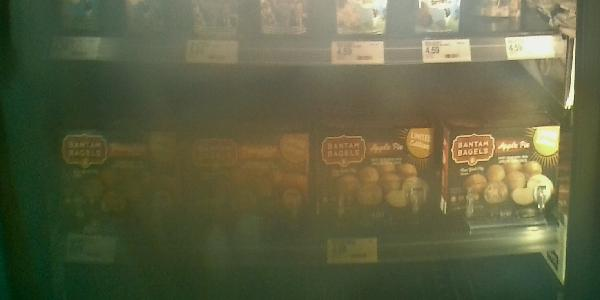icecream: (49, 126, 174, 255), (180, 128, 315, 246), (316, 113, 440, 238), (441, 114, 564, 235)
